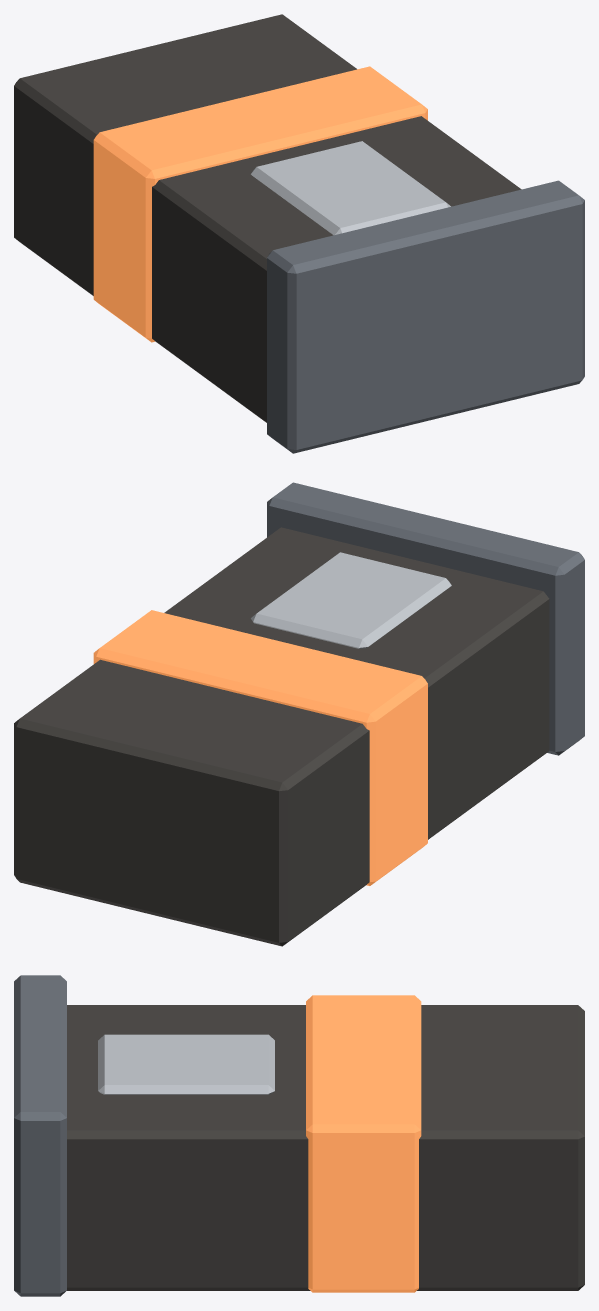
The model's file is spent_thermal_clip.glb.
3 views of the same model, one above another, from view 1: azimuth 30°, elevation 25°; view 2: azimuth 150°, elevation 25°; view 3: azimuth 270°, elevation 25° (orthographic). The views are drawn at different scales.
Parts seen in each view (by area): view 1: spent_thermal_clip; view 2: spent_thermal_clip; view 3: spent_thermal_clip.
Part boxes in pixels (box(x1,y1,x2,y2)): spent_thermal_clip: box(14, 14, 584, 453); spent_thermal_clip: box(14, 482, 584, 946); spent_thermal_clip: box(14, 975, 584, 1296).
Bounding box in the file's own units: 0.076 × 0.046 × 0.129.
